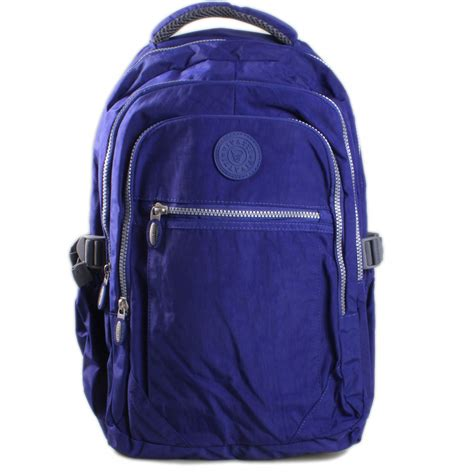nylon: (72, 1, 377, 460)
